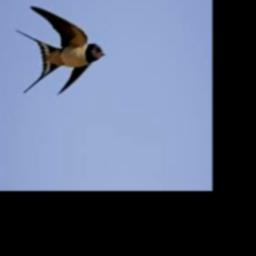Swallow: (15, 5, 105, 94)
